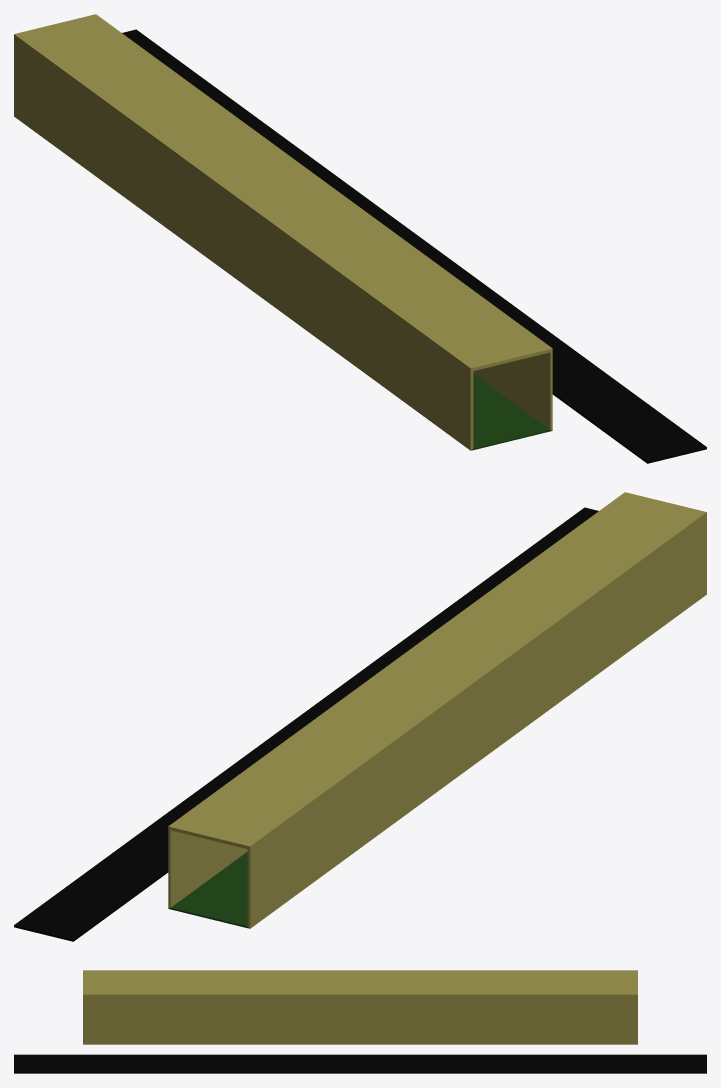
File: Cenario-V1 (5).fbx
3 views of the same model, one above another, from view 1: azimuth 30°, elevation 25°; view 2: azimuth 150°, elevation 25°; view 3: azimuth 270°, elevation 25° (orthographic). The views are drawn at different scales.
Parts seen in each view (by area): view 1: Paredes/teto, esteira; view 2: Paredes/teto, esteira; view 3: Paredes/teto, esteira.
Part boxes in pixels (bbox=[...]): Paredes/teto: bbox=[14, 14, 552, 450]; esteira: bbox=[122, 29, 706, 463]; Paredes/teto: bbox=[168, 492, 706, 928]; esteira: bbox=[14, 507, 598, 941]; Paredes/teto: bbox=[83, 970, 637, 1044]; esteira: bbox=[14, 1054, 706, 1073].
Bounding box in the file's own units: 453 × 200 × 2498.
